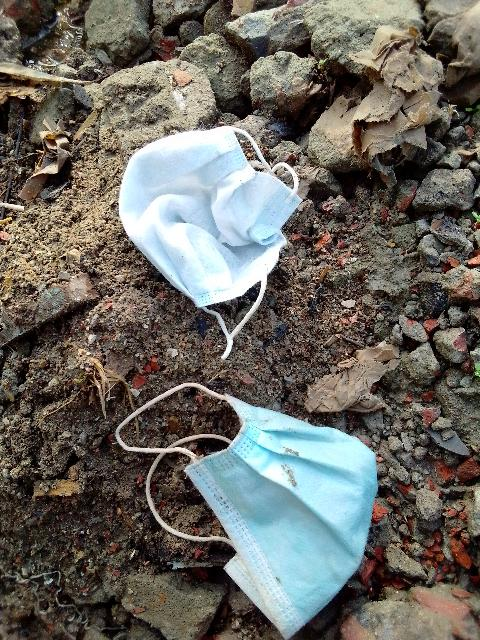mask: (160, 393, 387, 618), (111, 121, 290, 306)
